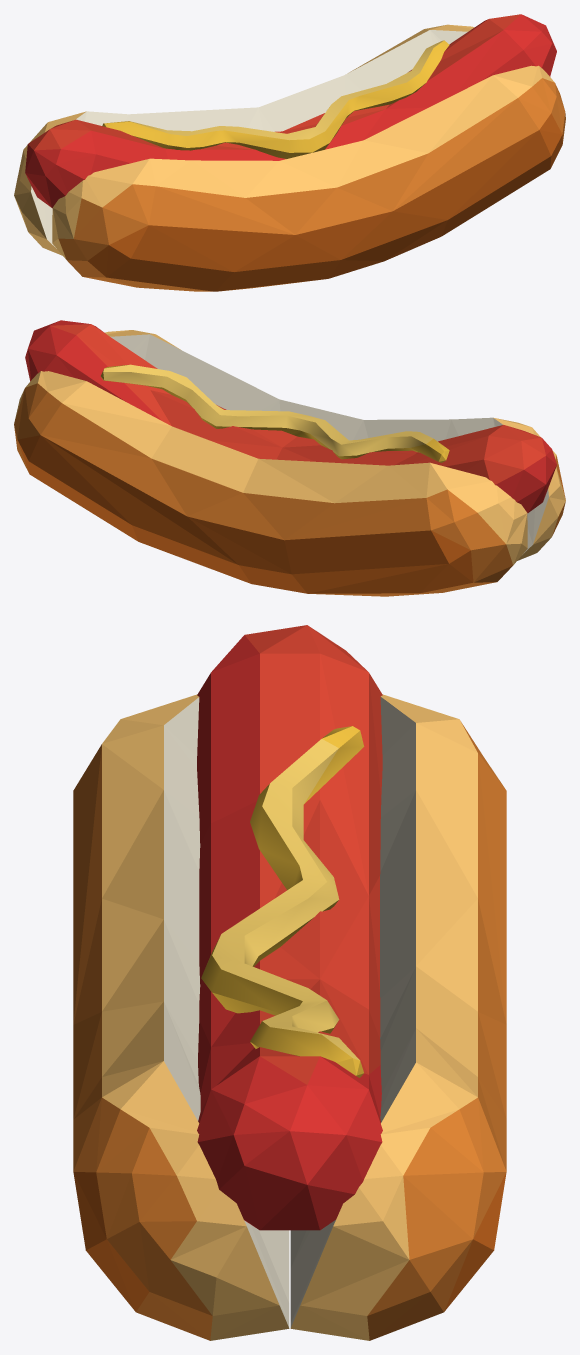
Rendered from hotdog.gltf.
3 views of the same model, one above another, from view 1: azimuth 30°, elevation 25°; view 2: azimuth 150°, elevation 25°; view 3: azimuth 270°, elevation 25° (orthographic). The views are drawn at different scales.
Visible parts, largest first — view 1: bun, bog, mustard; view 2: bun, bog, mustard; view 3: bun, bog, mustard.
Part boxes in pixels (<box>): bun: <box>14,24,565,291</box>; bog: <box>25,14,556,208</box>; mustard: <box>102,40,449,158</box>; bun: <box>14,330,565,596</box>; bog: <box>25,320,556,513</box>; mustard: <box>100,364,449,462</box>; bun: <box>73,694,506,1340</box>; bog: <box>197,625,382,1230</box>; mustard: <box>201,726,364,1077</box>.
Size of the model in its own units: 2.28 by 0.7897 by 0.8208.
Materials: 1 (1 with a texture image).
